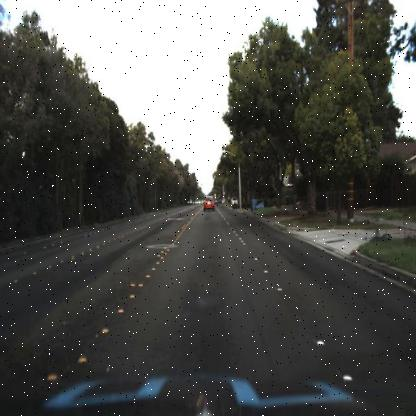car: (201, 190, 217, 215)
